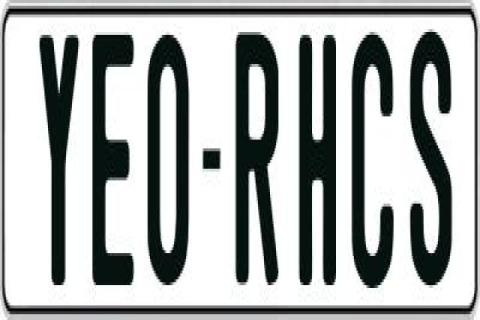0: (146, 26, 188, 288)
C: (350, 35, 391, 297)
E: (92, 27, 138, 280)
H: (296, 29, 332, 291)
R: (234, 35, 278, 285)
S: (408, 29, 452, 291)
Y: (36, 27, 82, 280)
